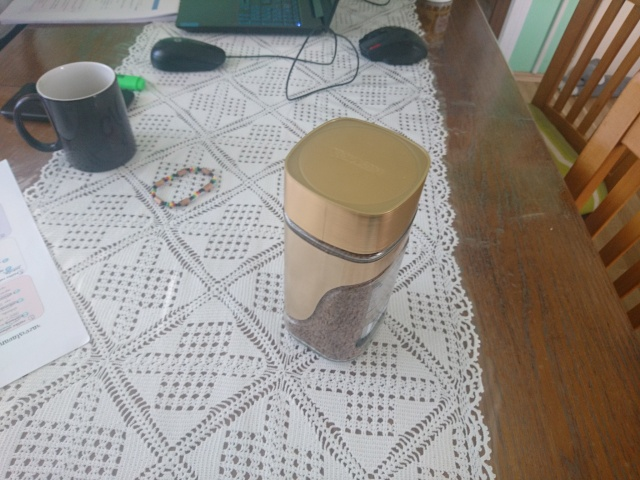Nescafe Gold 225g: (279, 114, 434, 365)
